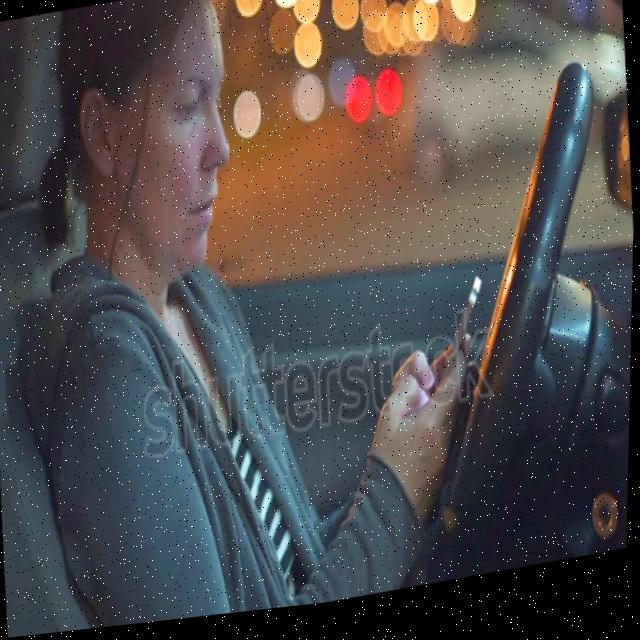PhoneCall: (418, 286, 492, 426)
